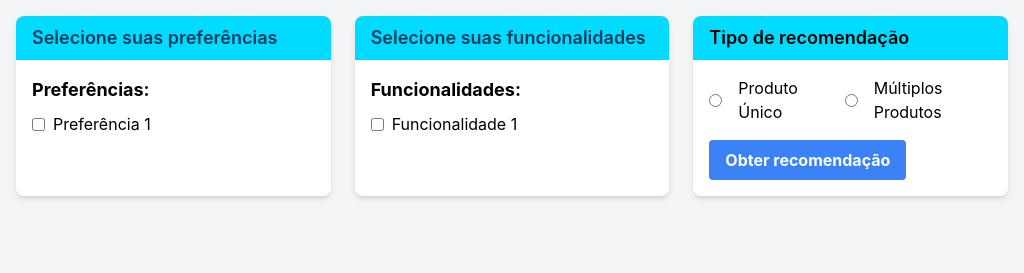
it: Form Component › shows error messages when submitting empty form
This screenshot has width=1024, height=273.
Click the button "Obter recomendação". click: (808, 160)
box: [709, 140, 906, 180]
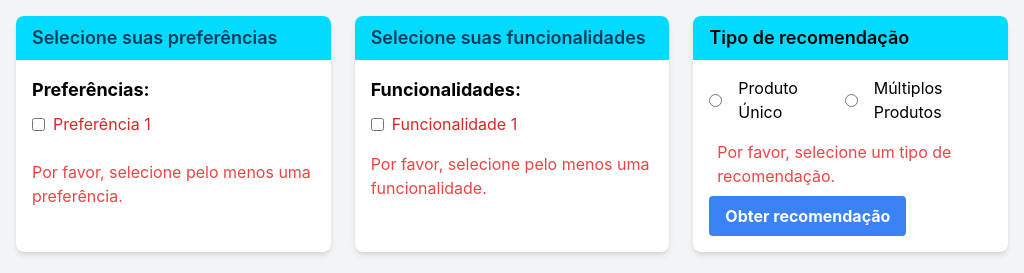
Expected: the text "Por favor, selecione pelo menos uma preferência." is shown, [32, 160, 315, 208]
Expected: the text "Por favor, selecione pelo menos uma funcionalidade." is shown, [371, 152, 653, 200]
Expected: the text "Por favor, selecione um tipo de recomendação." is shown, [717, 140, 984, 188]
